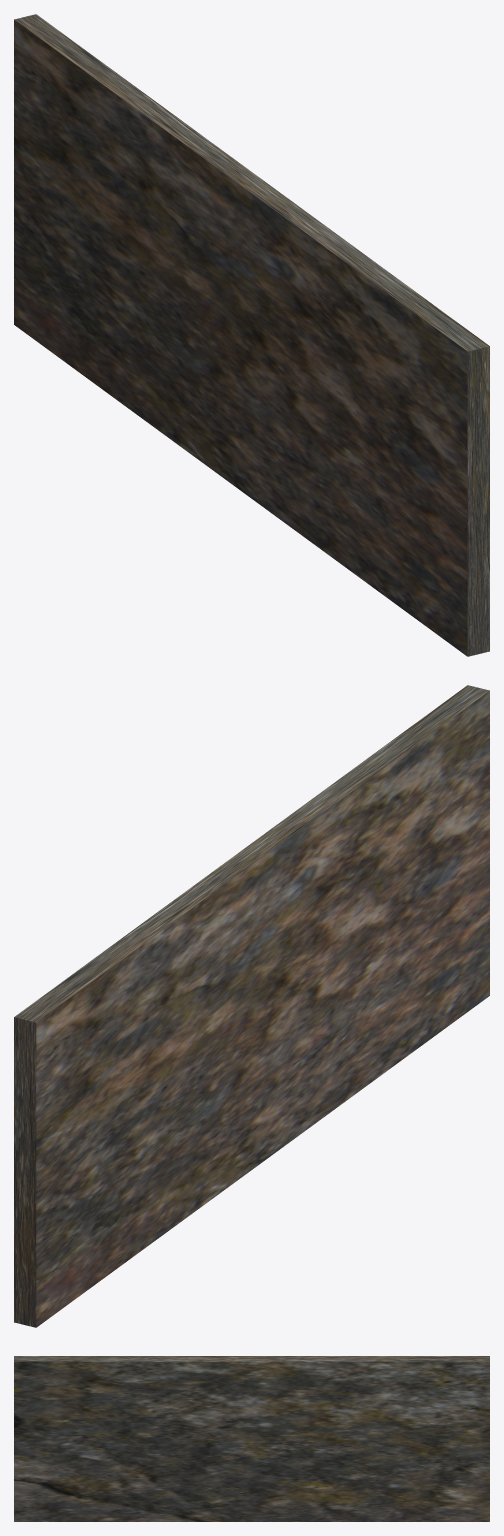
The model's file is wall.glb.
The picture shows the model from 3 angles, top to bottom: view 1: azimuth 30°, elevation 25°; view 2: azimuth 150°, elevation 25°; view 3: azimuth 270°, elevation 25°; orthographic projection. The views are drawn at different scales.
Visible parts, largest first — view 1: Cube; view 2: Cube; view 3: Cube.
Boxes of the visible parts, <box> form: Cube: <box>14,14,489,656</box>; Cube: <box>14,685,489,1327</box>; Cube: <box>14,1356,489,1521</box>.
Size of the model in its own units: 2 by 26.19 by 70.56.
1 material, 1 textured.
